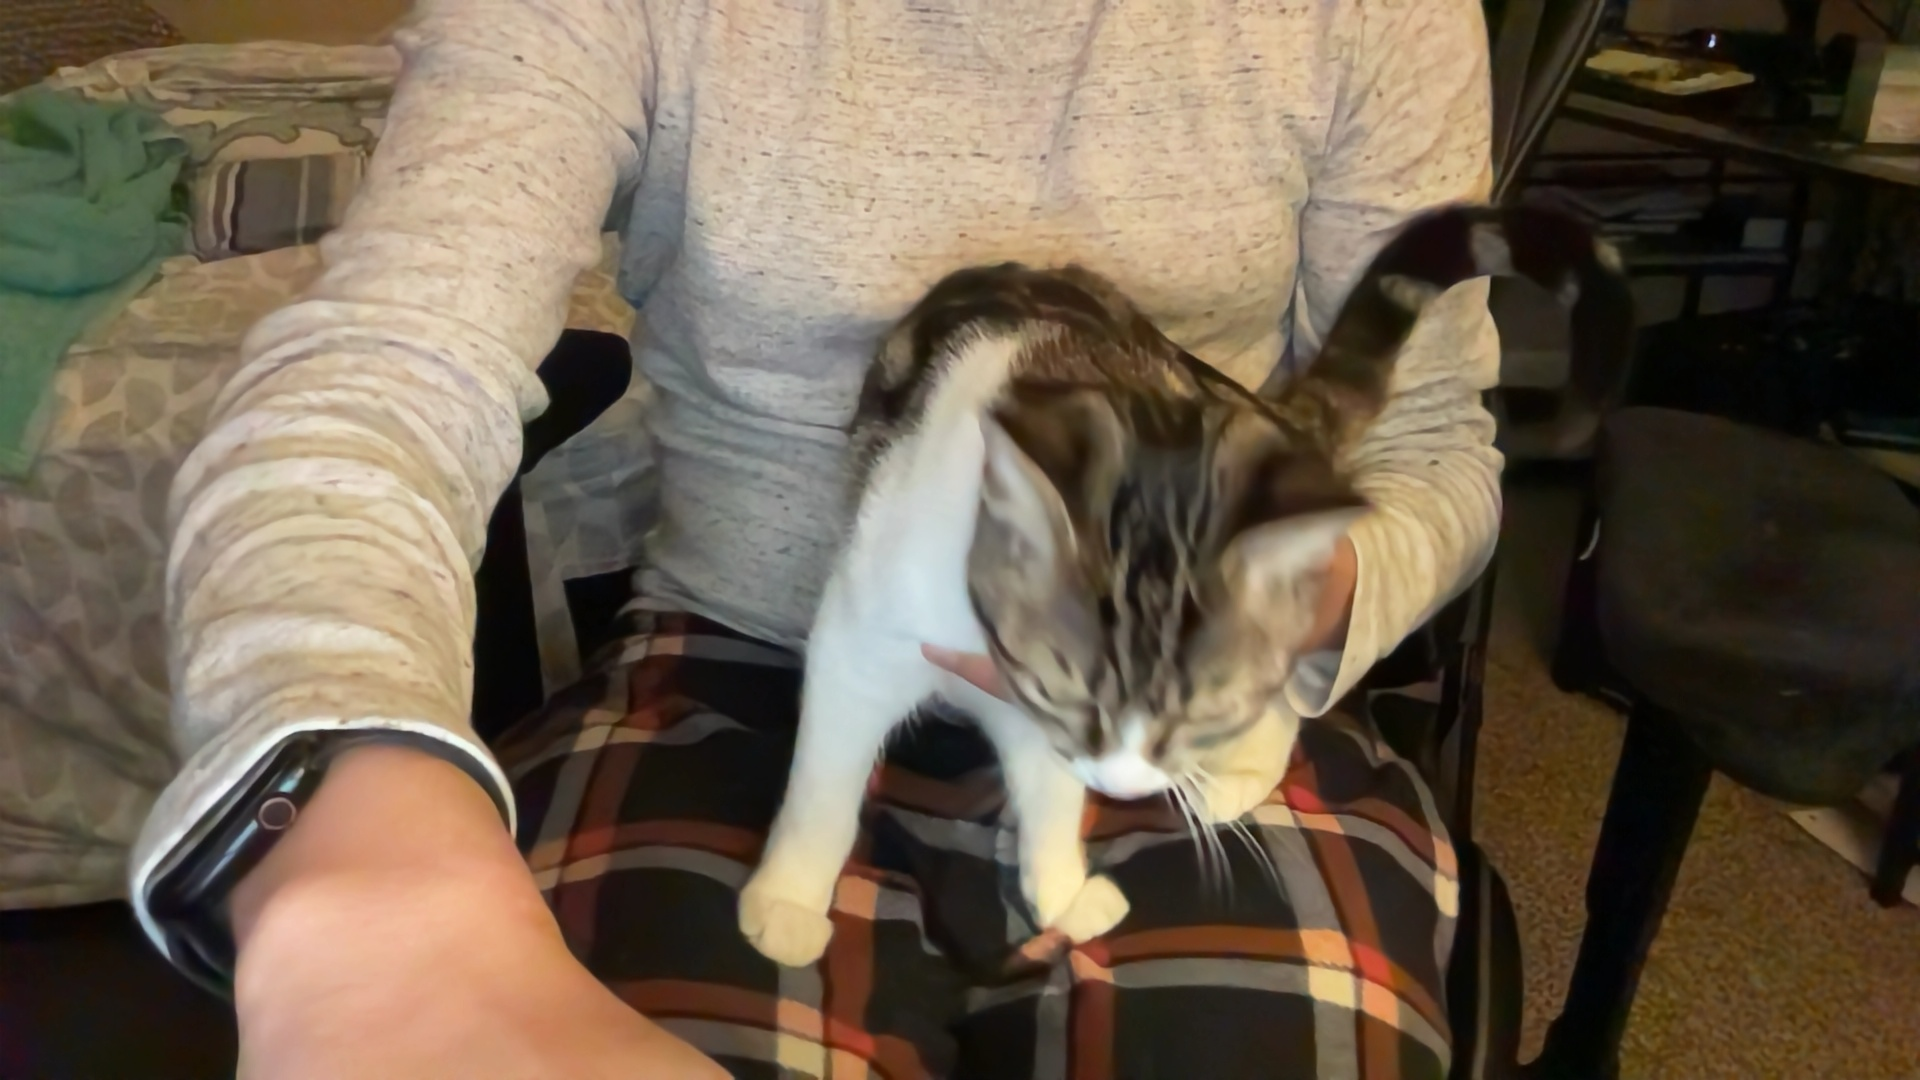cat: (735, 253, 1360, 967)
